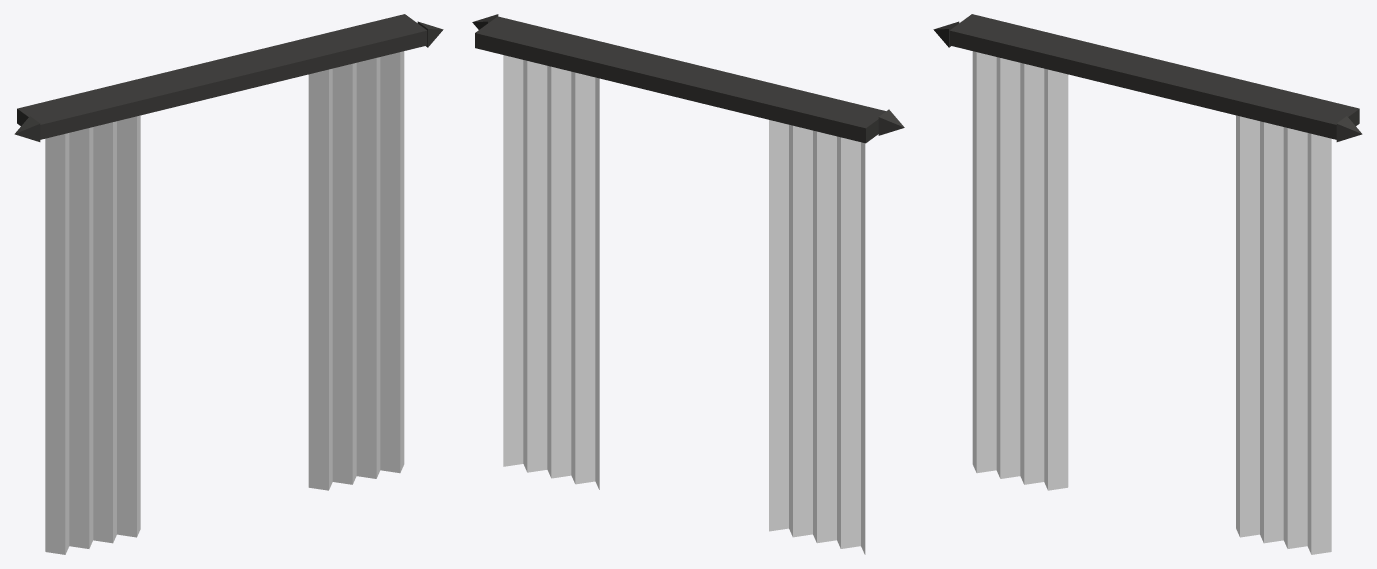
File: Curtain_1.fbx
3 renders of one model, left to right at view 1: azimuth 30°, elevation 25°; view 2: azimuth 150°, elevation 25°; view 3: azimuth 330°, elevation 25°, orthographic.
Parts seen in each view (by area): view 1: polySurface1558; view 2: polySurface1558; view 3: polySurface1558.
Part boxes in pixels (x1=…): polySurface1558: x1=14, y1=14, x2=443, y2=554; polySurface1558: x1=472, y1=14, x2=904, y2=554; polySurface1558: x1=933, y1=14, x2=1362, y2=554.
Bounding box in the file's own units: 3.16 × 3.08 × 0.2946.
1 material, 1 textured.
